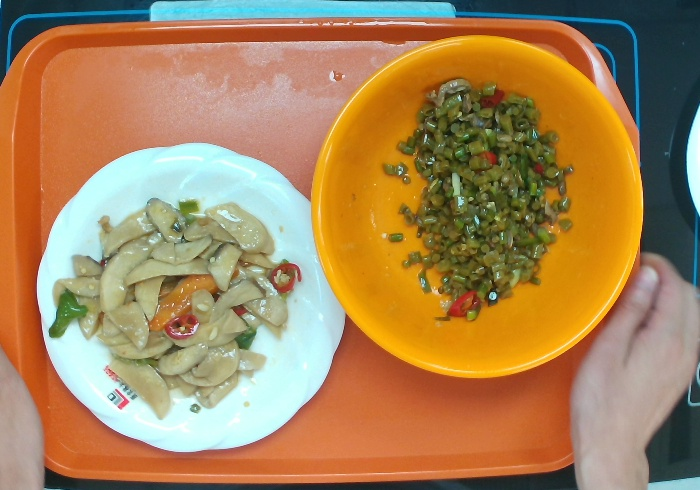ZNLD-Hua_Bian_Wan: (34, 141, 348, 456)
ZNLD-Ju_Se_Tang_Wan: (308, 33, 648, 383)
